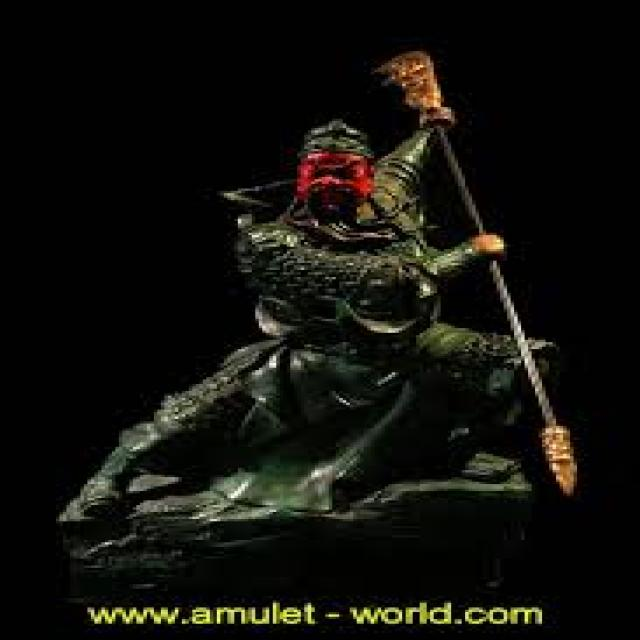Guan Yu: (223, 121, 460, 423)
